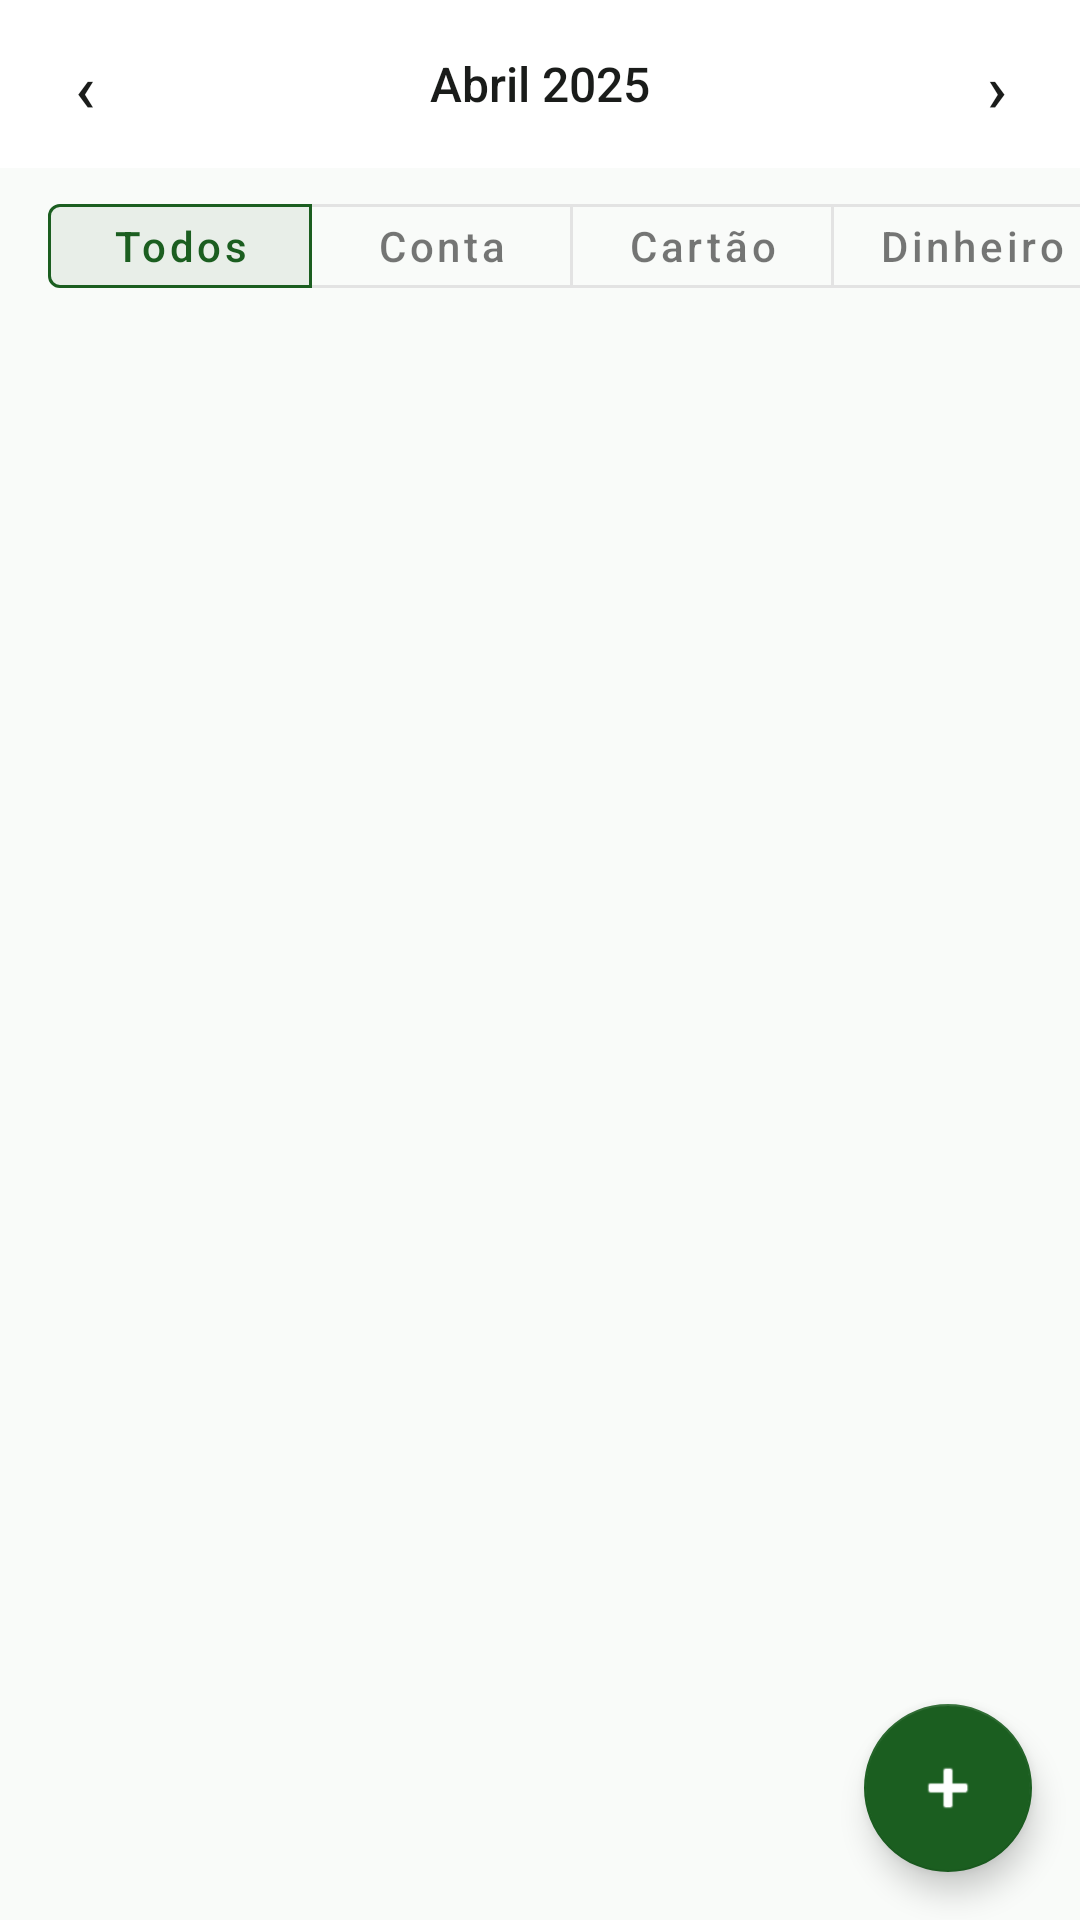

Where icons sit on this 1080×1920 app screen, as bbox=(x1, y1, x2, y2):
Adicionar transação: bbox=(864, 1704, 1032, 1872)
